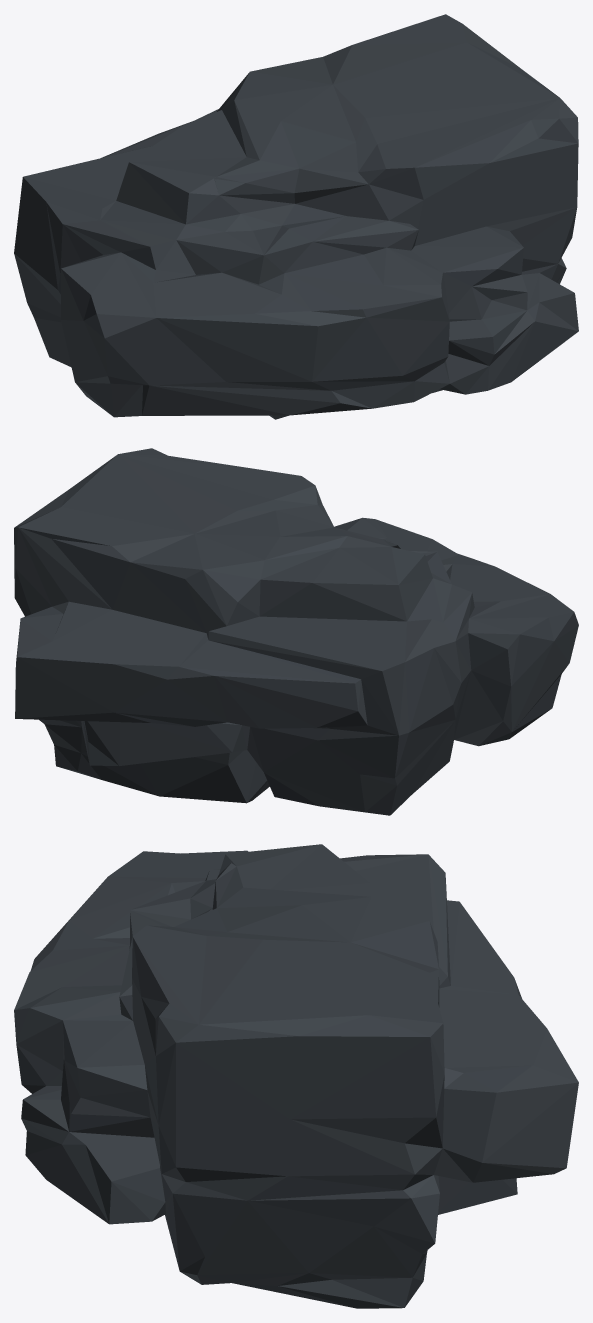
File: MDungeon_CavernRock_Small_01.FBX
3 views of the same model, one above another, from view 1: azimuth 30°, elevation 25°; view 2: azimuth 150°, elevation 25°; view 3: azimuth 270°, elevation 25° (orthographic). The views are drawn at different scales.
Parts seen in each view (by area): view 1: MDungeon_CavernRock_Small_01_LOD0; view 2: MDungeon_CavernRock_Small_01_LOD0; view 3: MDungeon_CavernRock_Small_01_LOD0.
Part boxes in pixels (x1,y1,x2,y2): MDungeon_CavernRock_Small_01_LOD0: (14, 14, 578, 419); MDungeon_CavernRock_Small_01_LOD0: (14, 448, 578, 815); MDungeon_CavernRock_Small_01_LOD0: (14, 844, 578, 1308).
Size of what is drawn, in the model's own units: 14.88 by 8.01 by 13.56.
